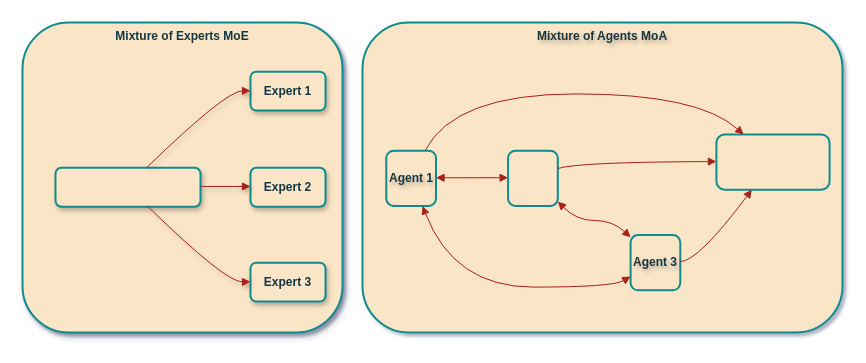
Some shapes in this 866 by 363 pixel diagram are drawn without their labels. The centre of each missing label's shape, as x and y in pixels:
Agent 2: point 532,177
Central Coordinator: point 772,161
Gating Mechanism: point 128,188
